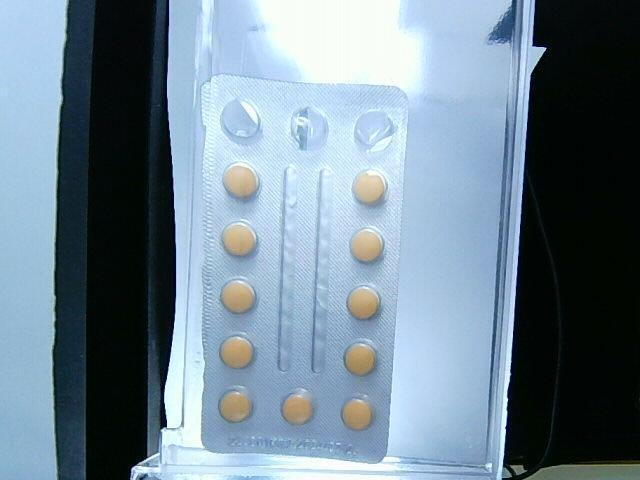Light Front: (196, 75, 410, 464)
No Pill Front: (290, 105, 328, 150), (354, 110, 395, 151), (220, 99, 261, 139)
Pill Front: (221, 221, 256, 256), (346, 285, 381, 319), (219, 280, 255, 313), (351, 228, 383, 263), (225, 165, 258, 198), (220, 336, 253, 367), (345, 343, 376, 376), (354, 171, 385, 204), (220, 391, 251, 422), (343, 398, 373, 429), (283, 394, 313, 424)
